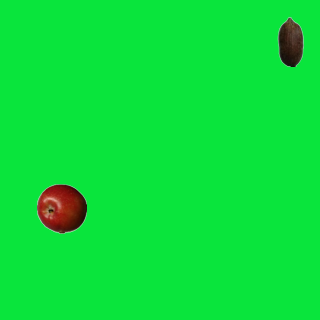Apple Braeburn: (36, 183, 86, 233)
Nut Pecan: (265, 16, 315, 66)
